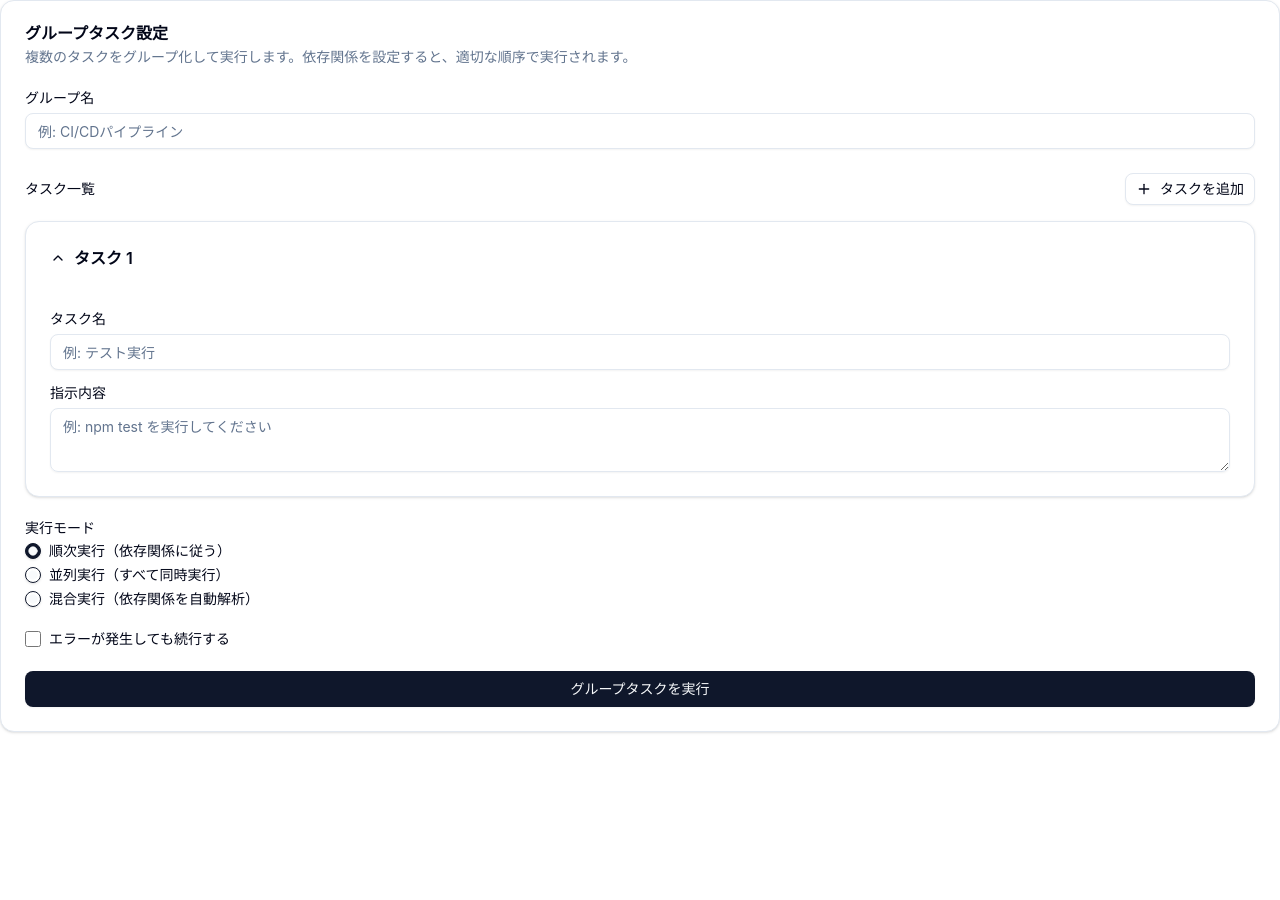
Test: GroupTaskForm › should remove task when clicking remove button
Note: Add a second task first
Click the button "タスクを追加" at (1190, 189), box [1125,173,1255,205]
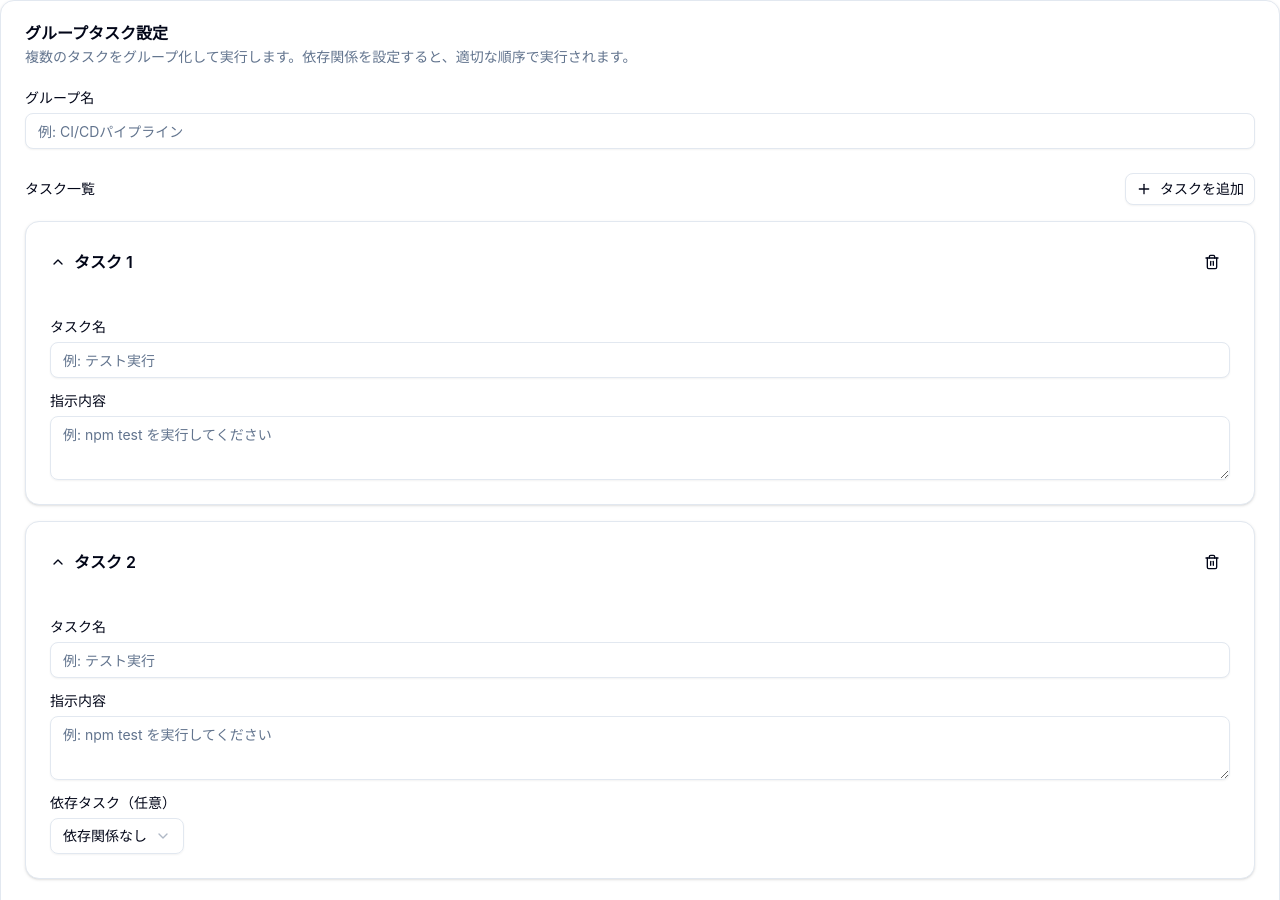
Note: Remove the second task
Click the button with test id "remove-task-button" at (1212, 562), box [1194,546,1230,578]
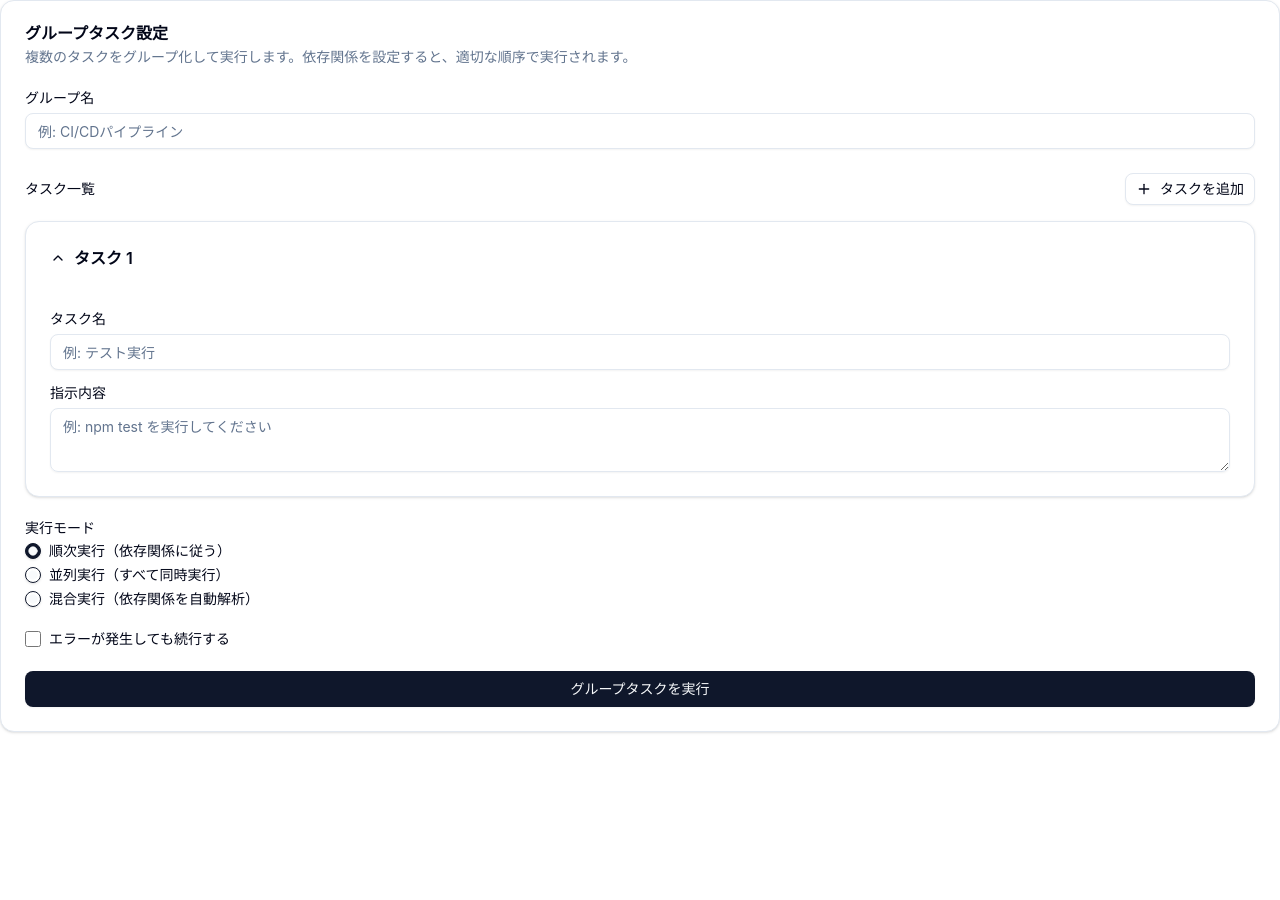
Result: the button "タスク 2" is gone
